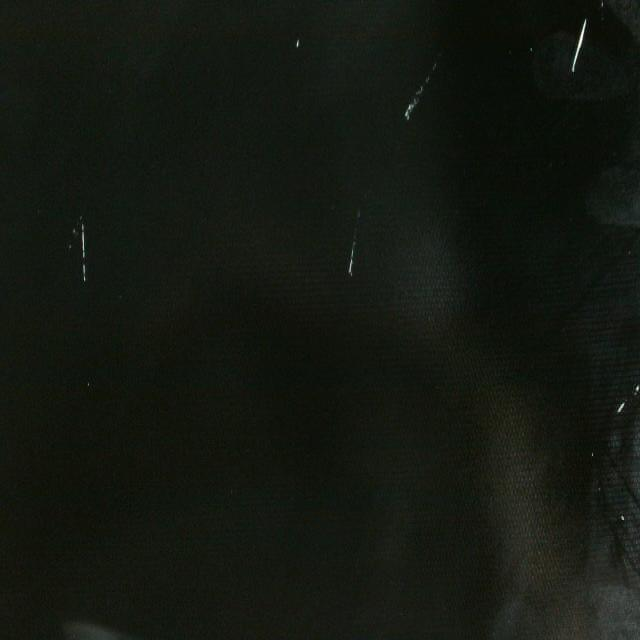scratch: (396, 57, 444, 133), (342, 202, 370, 283), (610, 364, 640, 434), (76, 203, 96, 295), (568, 17, 592, 78)
